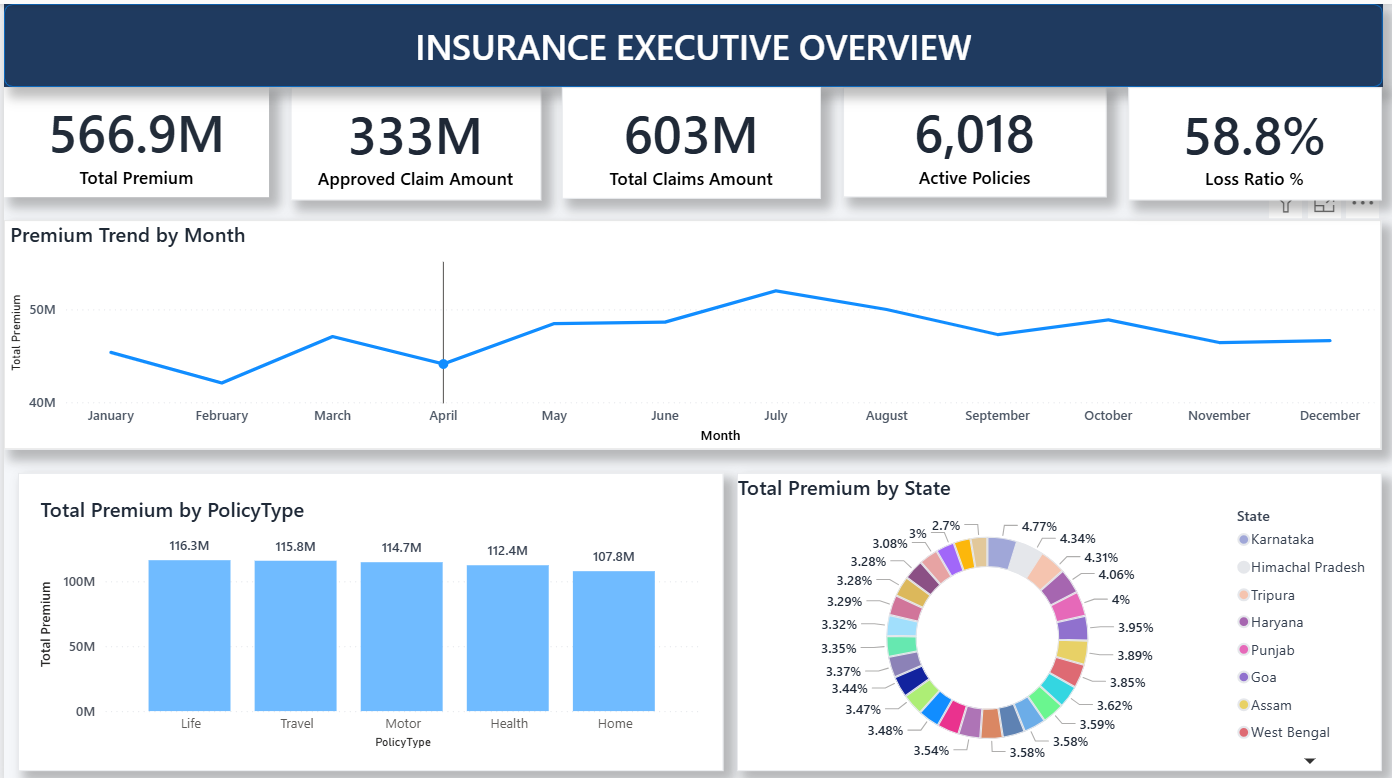

Layout of this report page (visuals, bound fields, positions):
{"tool":"powerbi","page":{"name":"Page 1","canvas":[1280,720],"ordinal":0},"visuals":[{"type":"card","fields":{"Values":["Fact_Premiums.Total  Premium"]},"box":[0,76.4,244.4,101.4],"z":0},{"type":"card","title":"Approved Claim Amount","fields":{"Values":["Fact_Claims.Approved Claim Amount"]},"box":[264.2,76.4,230.6,104.2],"z":1000},{"type":"card","fields":{"Values":["Fact_Policies.Active Policies"]},"box":[773.3,76.4,243.1,101.4],"z":2000},{"type":"lineChart","title":" Premium Trend by Month","fields":{"Category":["Fact_Premiums.Date.Variation.Date Hierarchy.Month"],"Y":["Fact_Premiums.Total Premium"]},"box":[0,198.5,1269.1,211.8],"z":3000},{"type":"clusteredColumnChart","fields":{"Category":["Dim_Policy.PolicyType"],"Y":["Fact_Premiums.Total  Premium"]},"box":[12.5,431.9,650,275],"z":4000},{"type":"donutChart","title":" Total Premium by State","fields":{"Category":["Dim_Customer.State"],"Y":["Fact_Premiums.Total  Premium"]},"box":[675.4,432.2,593.9,274.8],"z":5000},{"type":"shape","box":[0,0,1270.6,76.5],"z":6000},{"type":"card","fields":{"Values":["Fact_Claims.Total Claims Amount"]},"box":[514.6,76.4,238.9,102.8],"z":7000},{"type":"card","fields":{"Values":["Fact_Premiums.Loss Ratio %"]},"box":[1036.1,76.4,233.3,104.2],"z":8000}]}

Visuals, with their boxes in screenshot pixels (x1, y1, x2, y2), scaled from the page's 1280x720 canvas onto the 1392x778 screenshot:
card - Fact_Premiums.Total  Premium: [x1=0, y1=83, x2=266, y2=192]
"Approved Claim Amount" card: [x1=287, y1=83, x2=538, y2=195]
card - Fact_Policies.Active Policies: [x1=841, y1=83, x2=1105, y2=192]
" Premium Trend by Month" lineChart: [x1=0, y1=214, x2=1380, y2=443]
clusteredColumnChart - Dim_Policy.PolicyType x Fact_Premiums.Total  Premium: [x1=14, y1=467, x2=720, y2=764]
" Total Premium by State" donutChart: [x1=734, y1=467, x2=1380, y2=764]
shape: [x1=0, y1=0, x2=1382, y2=83]
card - Fact_Claims.Total Claims Amount: [x1=560, y1=83, x2=819, y2=194]
card - Fact_Premiums.Loss Ratio %: [x1=1127, y1=83, x2=1380, y2=195]
